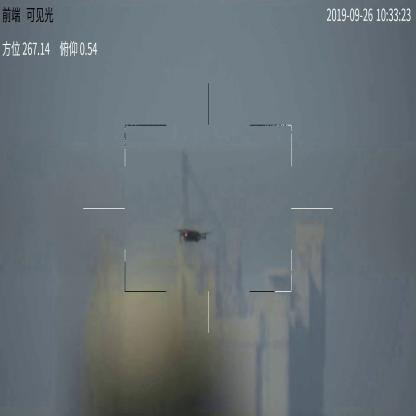uav: (173, 226, 212, 246)
